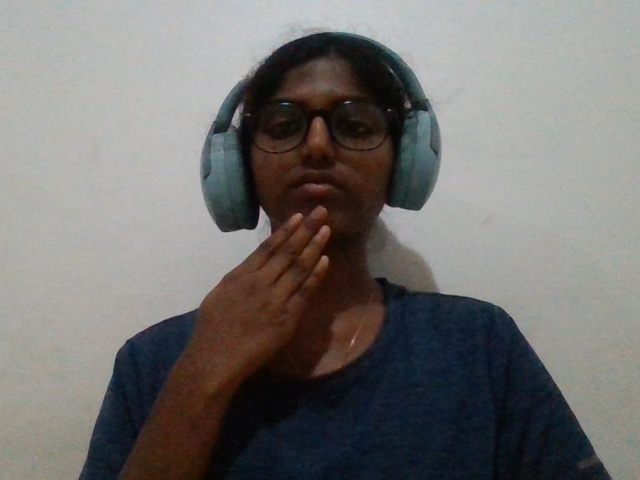Thanks: (169, 201, 382, 420)
